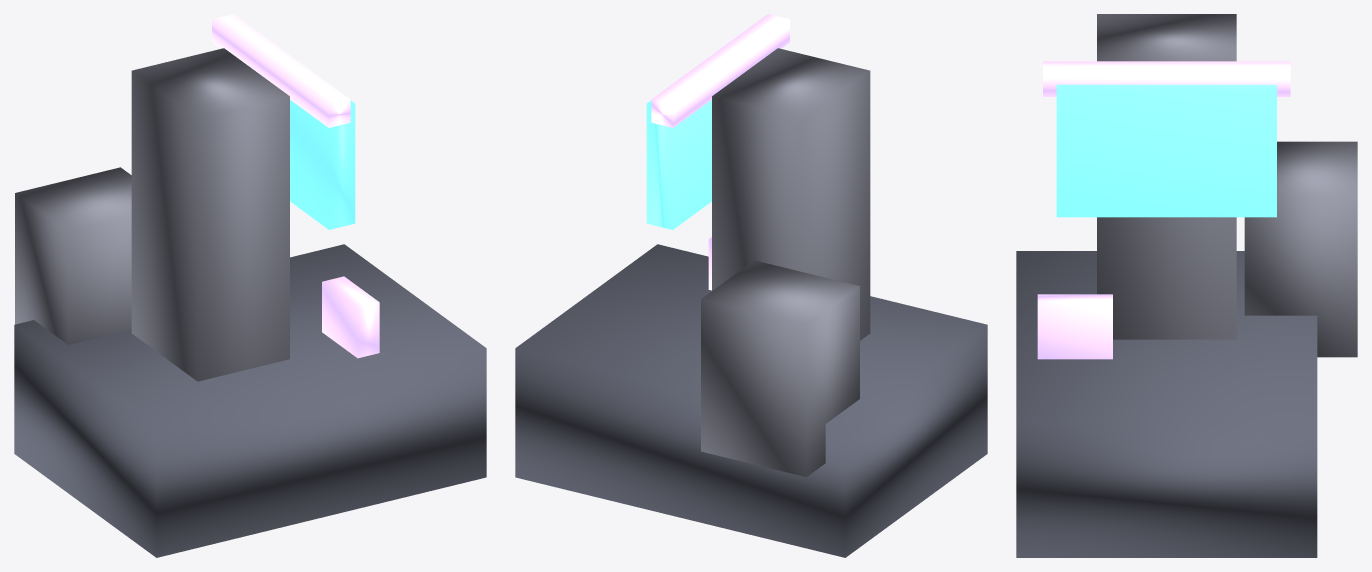
The model's file is parallax-reference-console-lod1.glb.
3 renders of one model, left to right at view 1: azimuth 30°, elevation 25°; view 2: azimuth 150°, elevation 25°; view 3: azimuth 270°, elevation 25°, orthographic. The views are drawn at different scales.
Visible parts, largest first — view 1: parallax-reference-console-base, parallax-reference-console-mast, parallax-reference-console-sidecar, parallax-reference-console-screen, parallax-reference-console-calibration-bar, parallax-reference-console-status; view 2: parallax-reference-console-base, parallax-reference-console-mast, parallax-reference-console-sidecar, parallax-reference-console-screen, parallax-reference-console-calibration-bar; view 3: parallax-reference-console-base, parallax-reference-console-screen, parallax-reference-console-mast, parallax-reference-console-sidecar, parallax-reference-console-calibration-bar, parallax-reference-console-status.
Boxes of the visible parts, x1,y1,x2,y2 form: parallax-reference-console-base: [14, 244, 486, 557]; parallax-reference-console-mast: [131, 48, 289, 381]; parallax-reference-console-sidecar: [15, 167, 131, 344]; parallax-reference-console-screen: [290, 100, 355, 229]; parallax-reference-console-calibration-bar: [212, 14, 350, 127]; parallax-reference-console-status: [322, 276, 379, 358]; parallax-reference-console-base: [515, 244, 987, 557]; parallax-reference-console-mast: [712, 48, 870, 340]; parallax-reference-console-sidecar: [701, 260, 859, 477]; parallax-reference-console-screen: [646, 100, 711, 229]; parallax-reference-console-calibration-bar: [651, 14, 789, 127]; parallax-reference-console-base: [1016, 251, 1317, 557]; parallax-reference-console-screen: [1056, 84, 1276, 217]; parallax-reference-console-mast: [1097, 14, 1236, 339]; parallax-reference-console-sidecar: [1244, 141, 1357, 357]; parallax-reference-console-calibration-bar: [1043, 61, 1290, 96]; parallax-reference-console-status: [1037, 294, 1112, 359].
Size of the model in its own units: 1.5 by 1.73 by 1.27.
